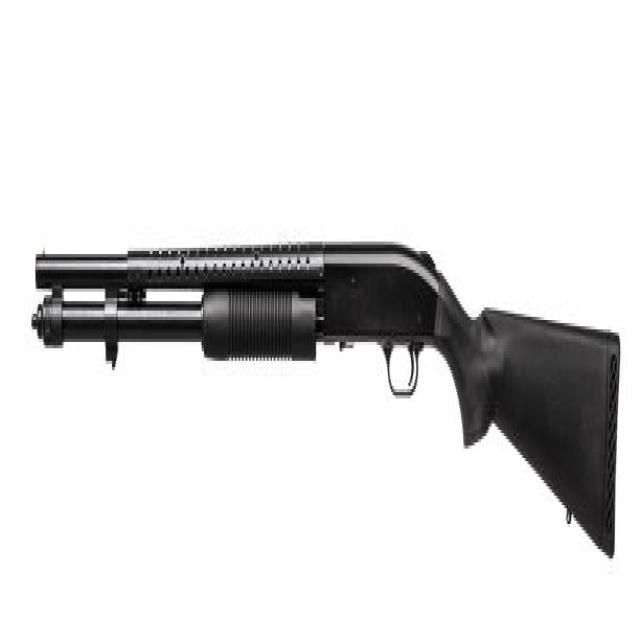rifle: (29, 231, 624, 562)
